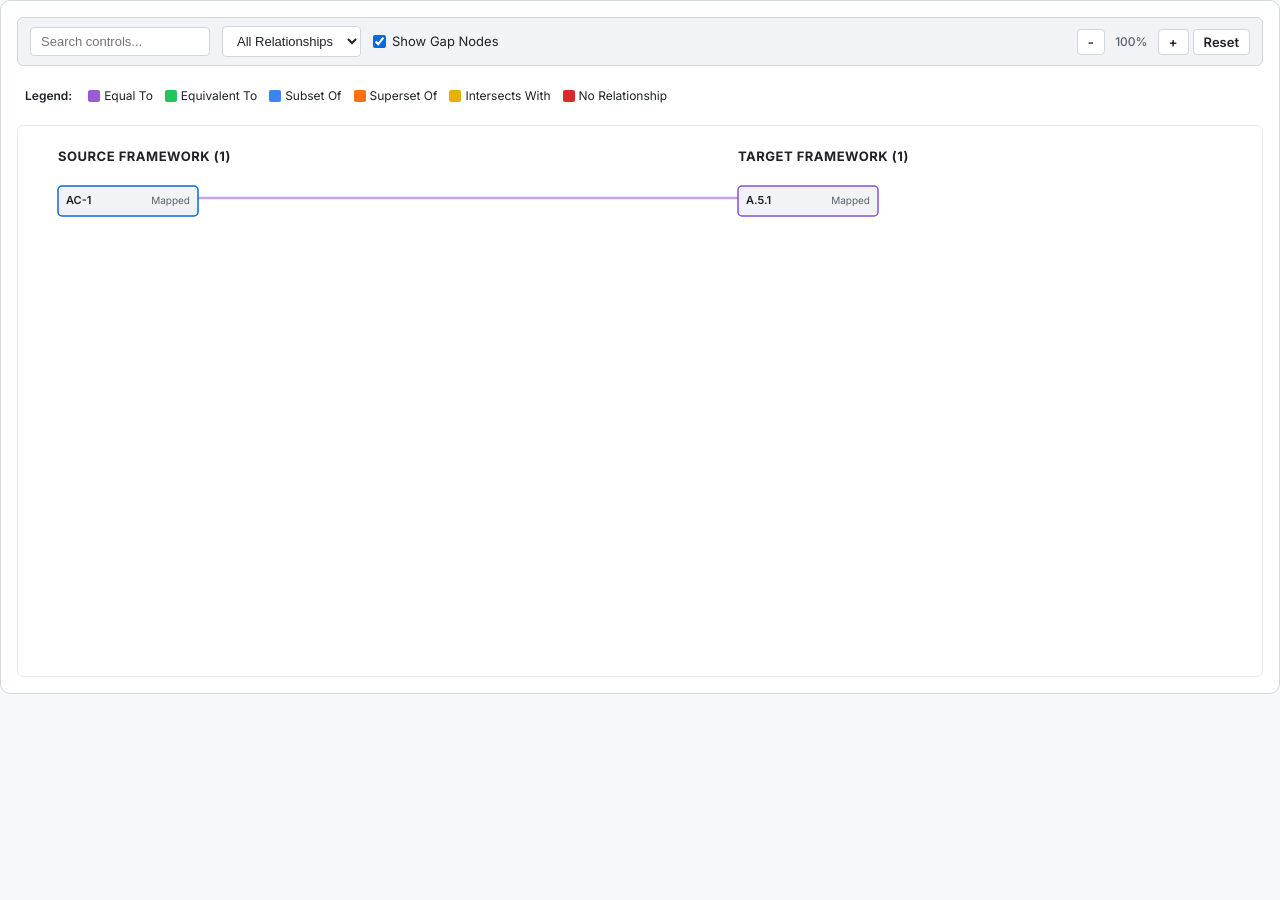
Test: SankeyDiagram Challenger 4 Gate Check - Empirical Verification Suite › 2. Zoom Floating-Point Precision (scale(0.85)) › maintains clean floating-point precision when zooming out to scale(0.85)
Click the button titled "Zoom Out" at (1091, 42), box [1077,28,1105,54]
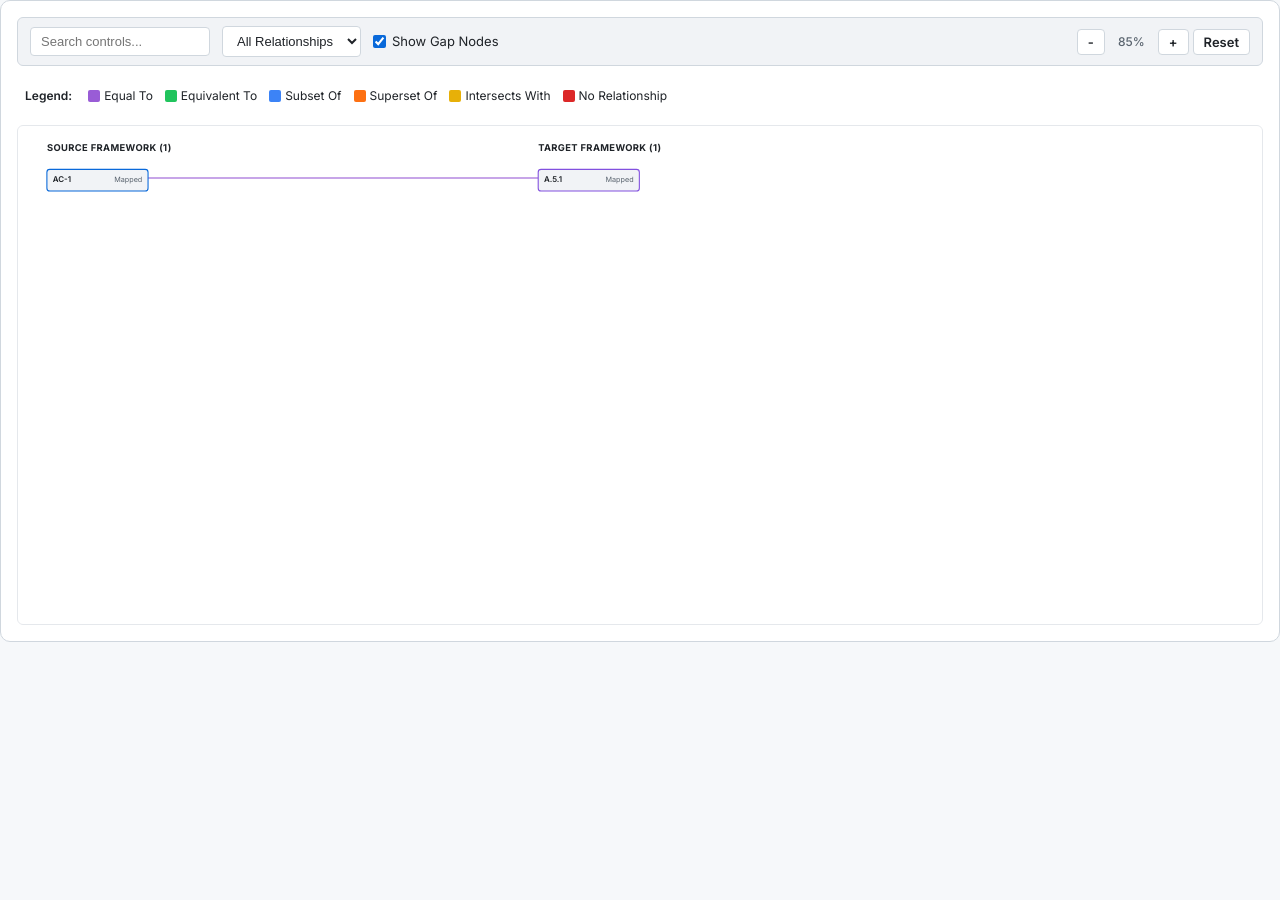
Expected: the text "85%" is shown, [1118,34,1145,49]
